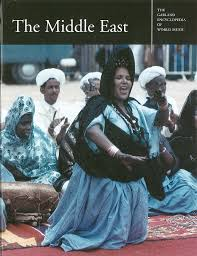middle_eastern_Female: (112, 67, 134, 101)
